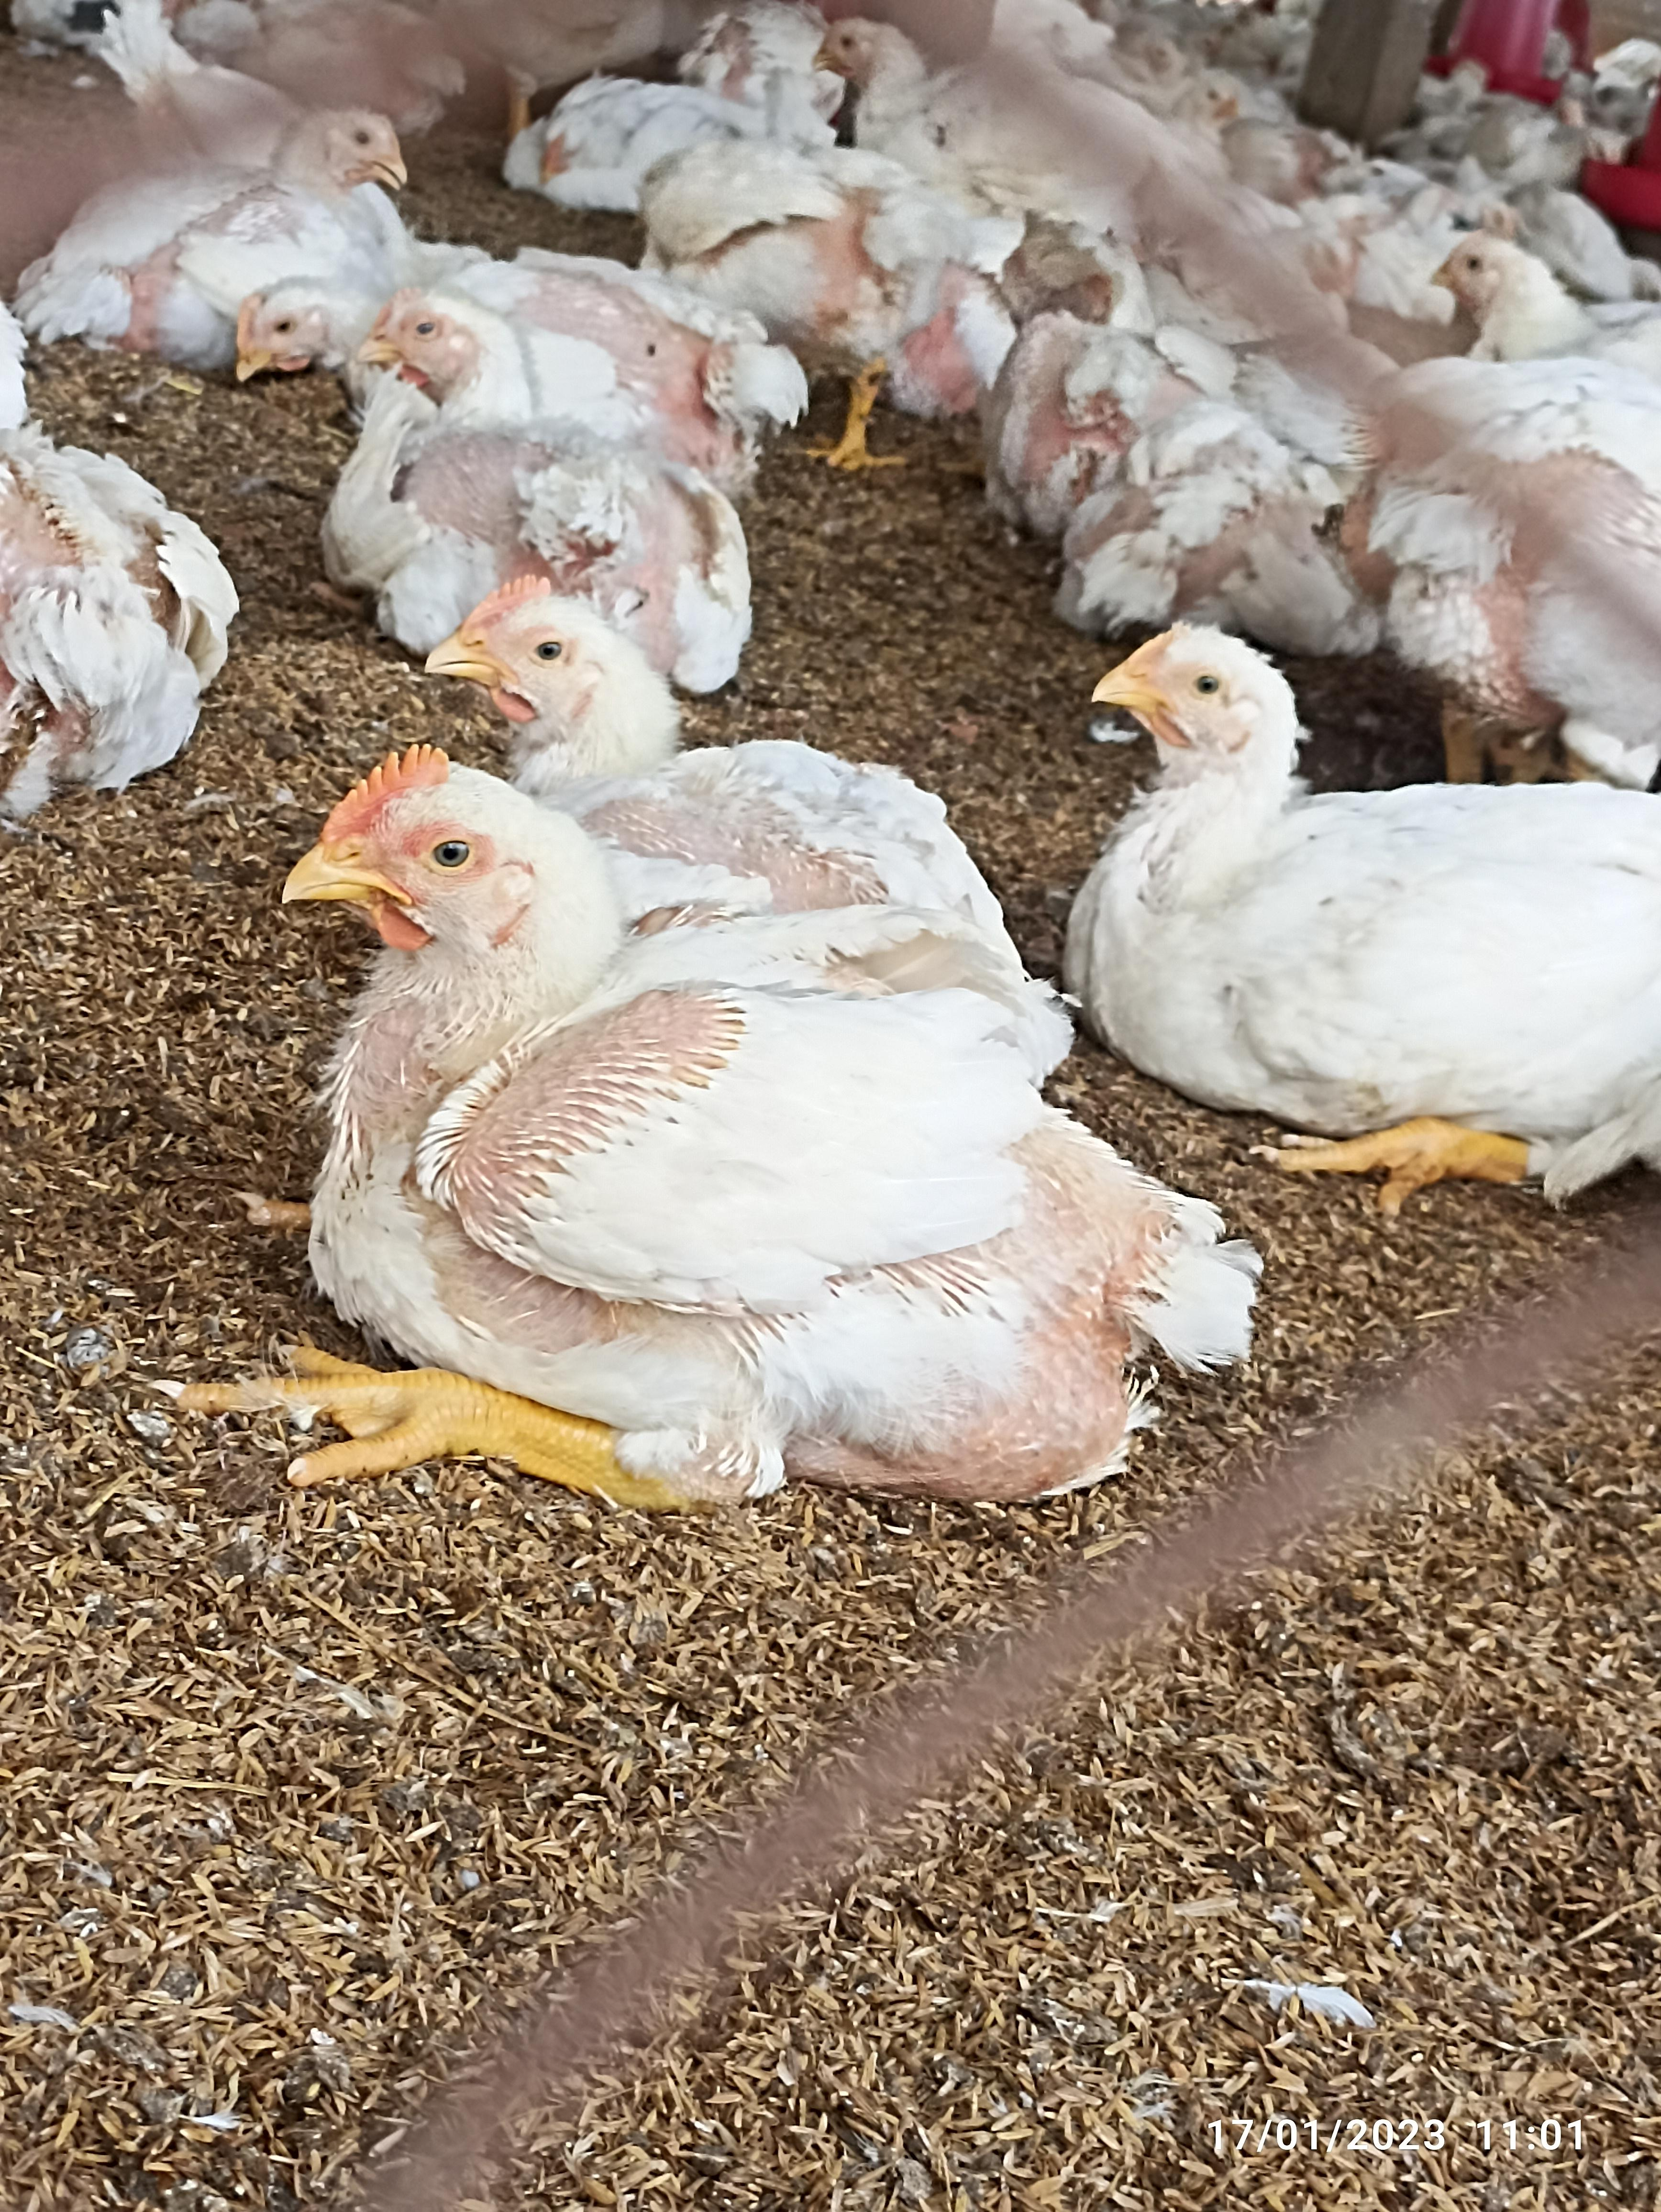Pollos: (269, 734, 1155, 1474), (1094, 625, 1661, 1190), (384, 297, 764, 691), (31, 105, 407, 358)
